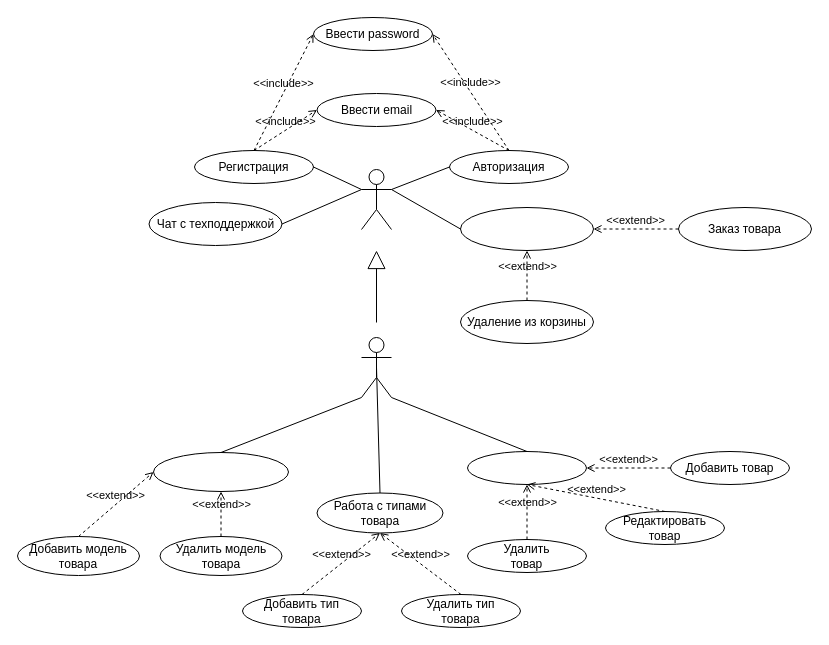
Some shapes in this 829 by 645 pixel diagram are drawn without their labels. The box of each missing label's shape, as (x1, y1, x2, y2) in pixels:
Admin: (360, 336, 392, 398)
User: (360, 168, 392, 230)
Добавление товара в корзину: (460, 206, 594, 250)
Работа с моделью товара: (152, 452, 288, 492)
Работа с товарами: (466, 450, 586, 484)
